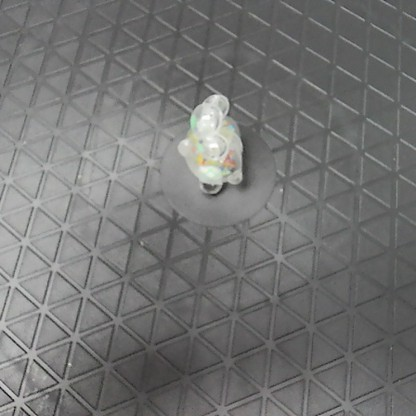whitefish: (176, 95, 248, 196)
